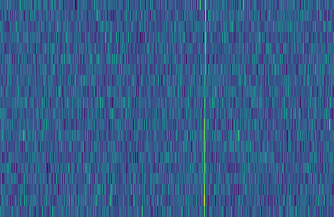signal: (200, 0, 210, 217)
